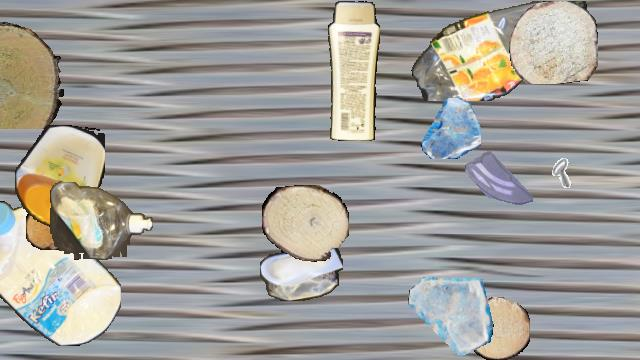glass: (407, 273, 493, 359), (465, 144, 533, 212), (420, 98, 480, 158)
metal: (527, 153, 573, 199)
plastic: (410, 1, 592, 101), (0, 200, 120, 346), (15, 125, 105, 227), (50, 182, 152, 260), (325, 1, 379, 141), (260, 240, 342, 300)
wood: (509, 1, 597, 83), (0, 22, 63, 128), (262, 185, 348, 261), (468, 297, 530, 359), (26, 204, 70, 250)
